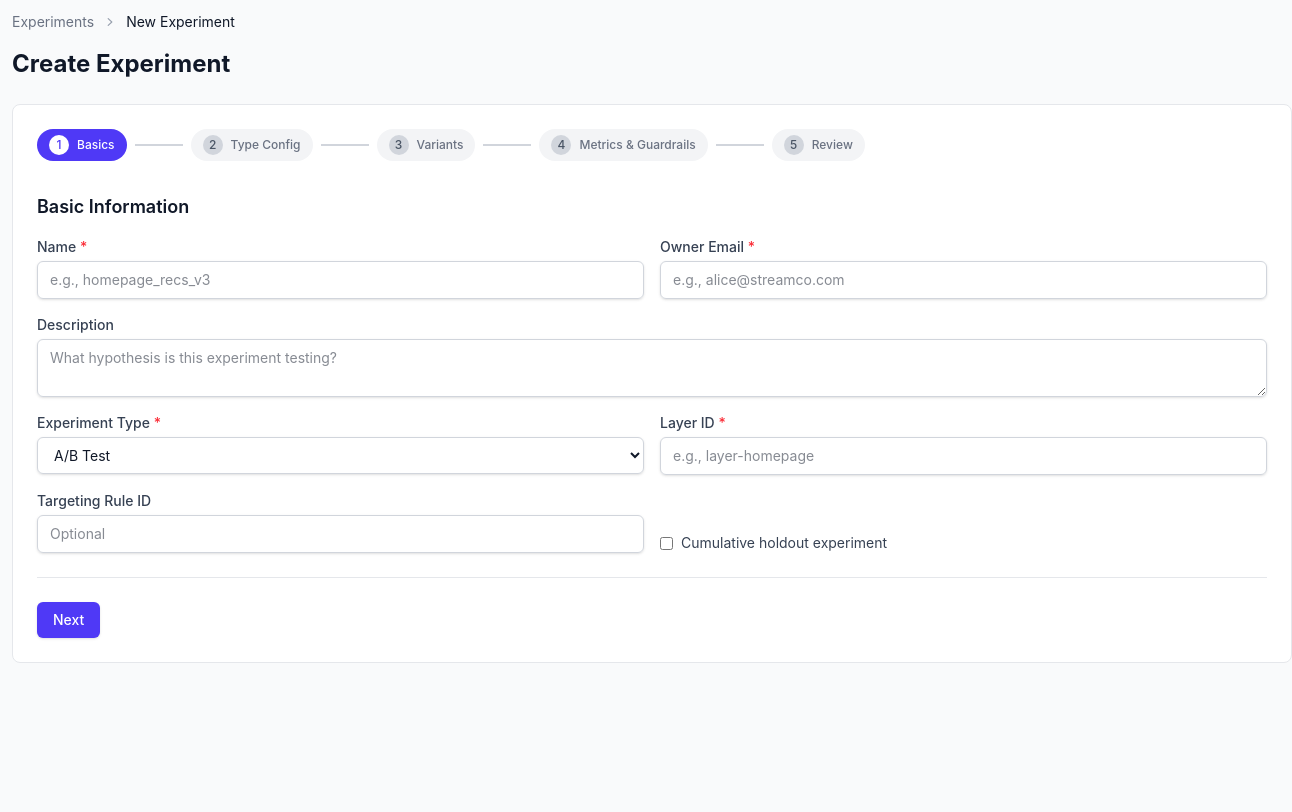
it: New Experiment Page › shows validation error when submitting empty form
The width and height of the screenshot is (1292, 812).
Step 1. Click the button "Next" → (69, 620), box 37,602 -> 100,638
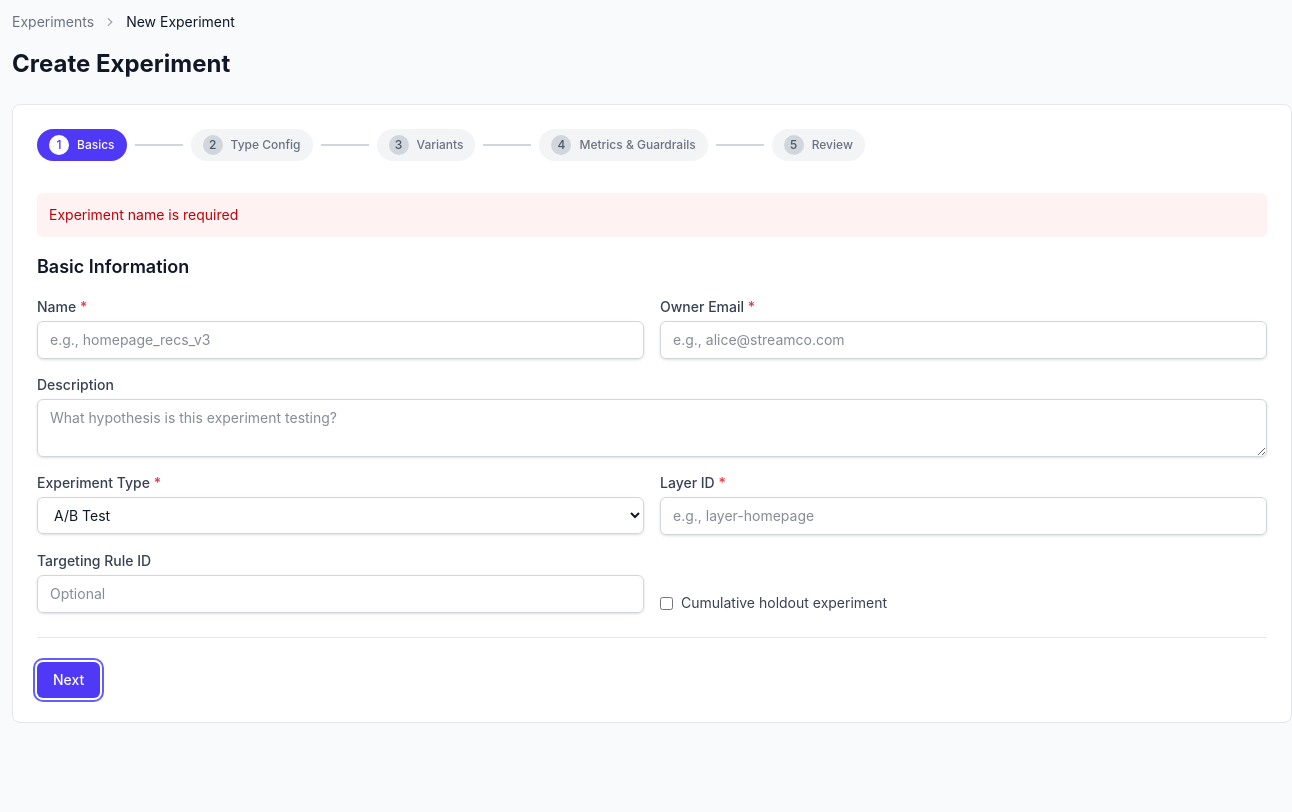
expect the message shows "name": met, box 49,206 -> 238,223
